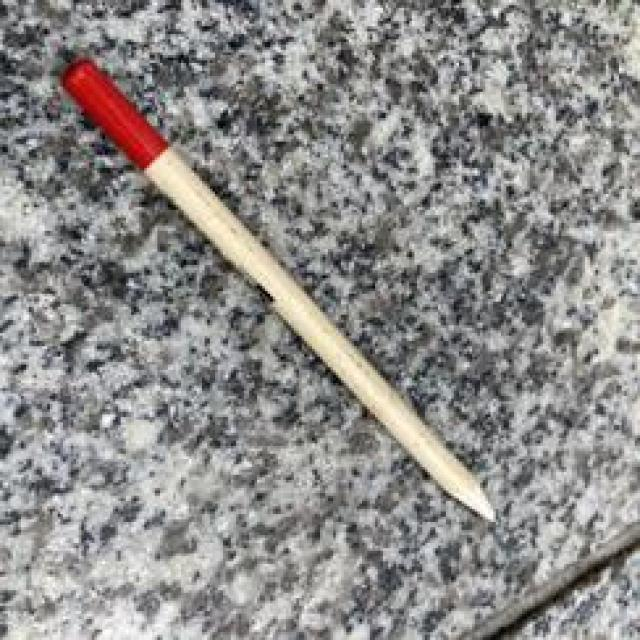pencil: (42, 32, 532, 566)
